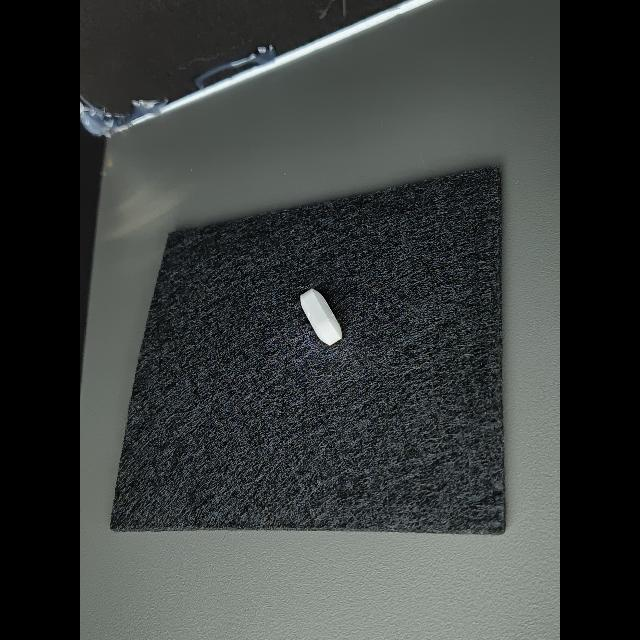Intact Pill: (300, 288, 342, 346)
